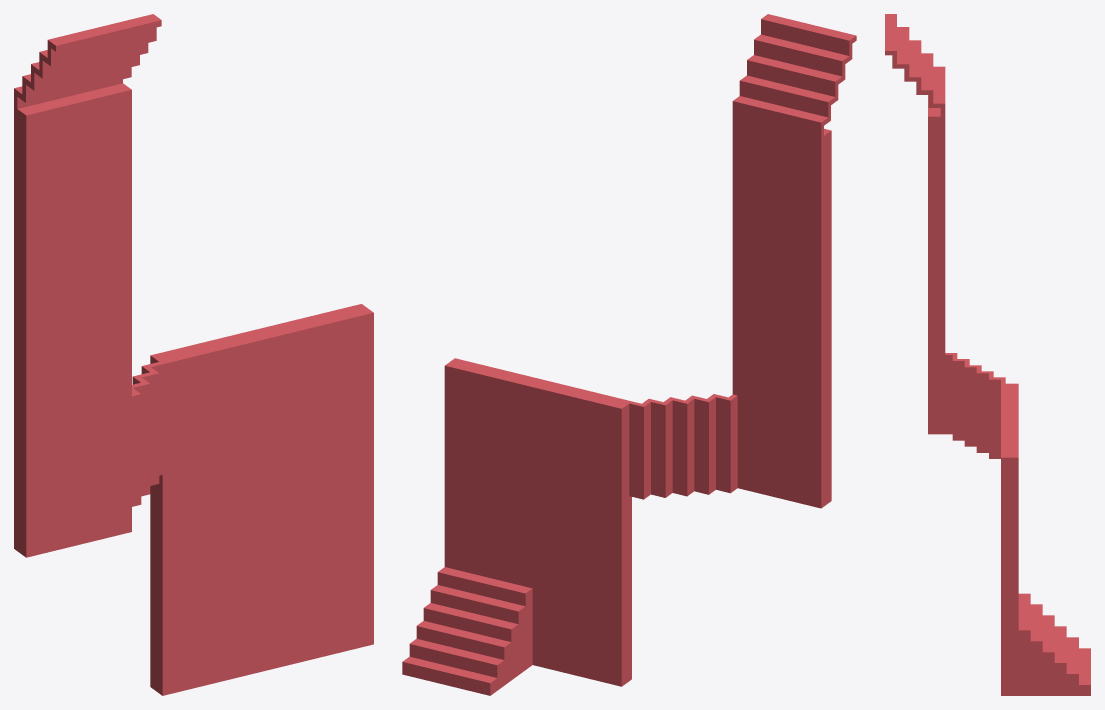
Rendered from stage1-3.fbx.
The picture shows the model from 3 angles, left to right: view 1: azimuth 30°, elevation 25°; view 2: azimuth 150°, elevation 25°; view 3: azimuth 270°, elevation 25°; orthographic projection. The views are drawn at different scales.
Visible parts, largest first — view 1: Wall&Stair.2; view 2: Wall&Stair.2; view 3: Wall&Stair.2.
Boxes of the visible parts, x1,y1,x2,y2 form: Wall&Stair.2: [14, 14, 373, 695]; Wall&Stair.2: [402, 14, 856, 695]; Wall&Stair.2: [885, 14, 1090, 695].
Size of the model in its own units: 13.68 by 24.76 by 8.52.
